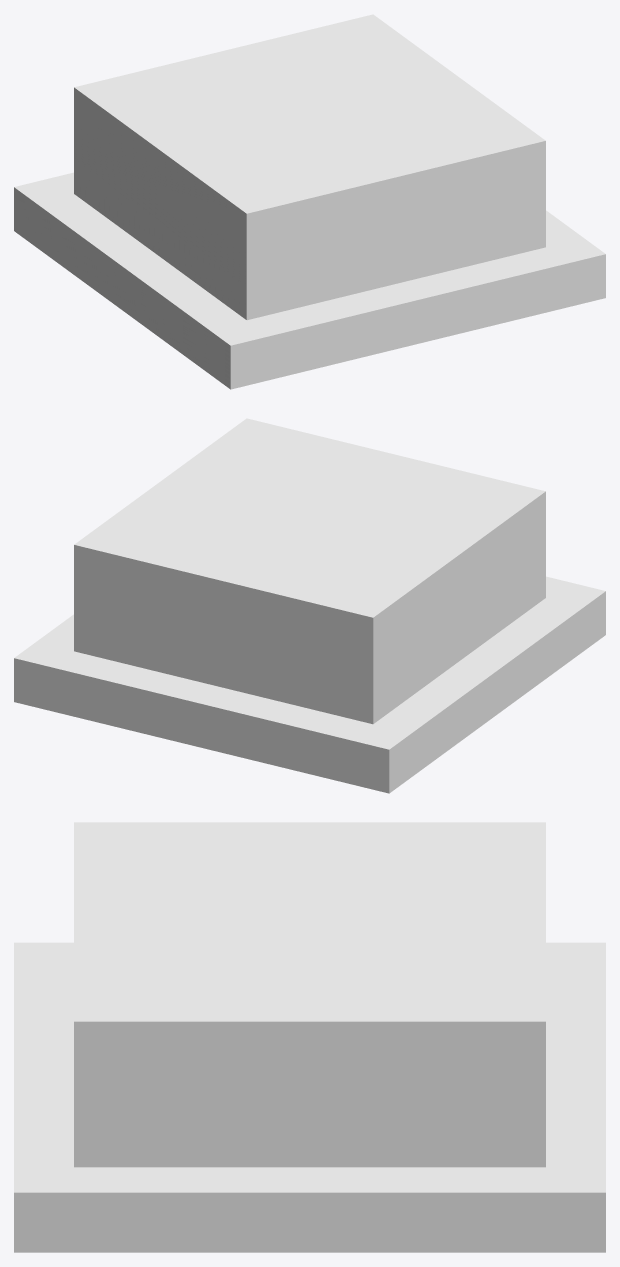
File: character_mu.fbx
3 renders of one model, top to bottom at view 1: azimuth 30°, elevation 25°; view 2: azimuth 150°, elevation 25°; view 3: azimuth 270°, elevation 25°, orthographic. The views are drawn at different scales.
Parts seen in each view (by area): view 1: Main_Character_mu; view 2: Main_Character_mu; view 3: Main_Character_mu.
Boxes of the visible parts, x1,y1,x2,y2 form: Main_Character_mu: [14, 14, 605, 389]; Main_Character_mu: [14, 418, 605, 793]; Main_Character_mu: [14, 822, 605, 1252].
Size of the model in its own units: 35.71 by 13.68 by 35.71.
